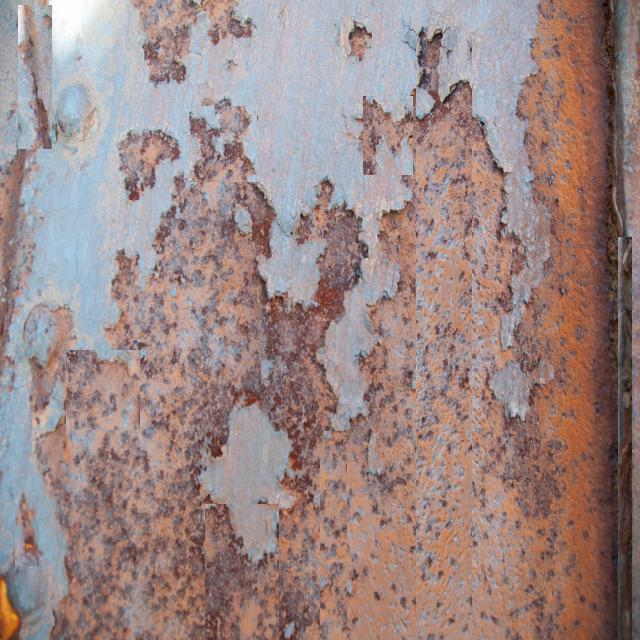Corrosion: (205, 0, 618, 640), (40, 415, 199, 640), (149, 134, 269, 383), (108, 254, 243, 458), (265, 183, 359, 440), (131, 0, 252, 82), (66, 354, 139, 452), (0, 150, 27, 368), (119, 130, 179, 200), (30, 339, 69, 412), (29, 43, 51, 148), (419, 28, 444, 94), (17, 496, 40, 566), (215, 98, 250, 144), (0, 578, 19, 640), (190, 115, 218, 154), (348, 20, 373, 60)
